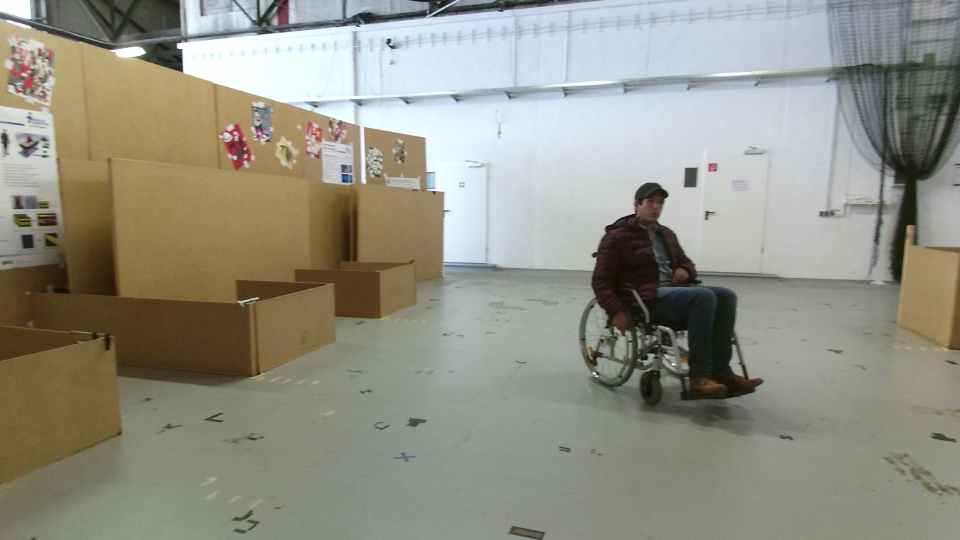wheelchair: (578, 172, 775, 425)
